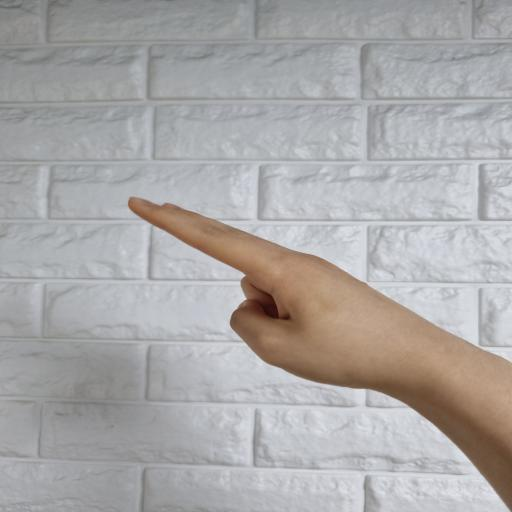Scissors: (128, 198, 512, 512)
